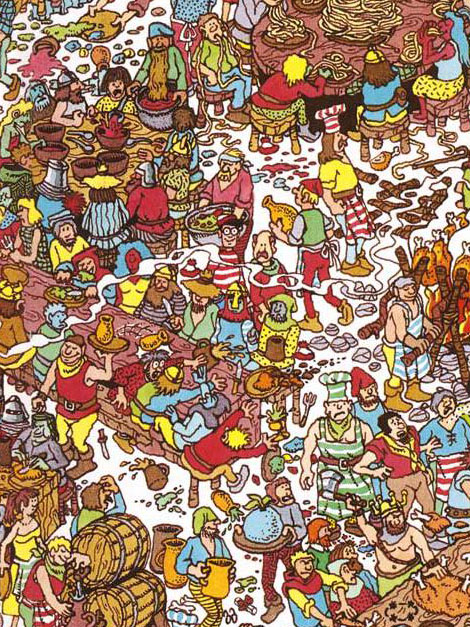waldo: (214, 207, 241, 248)
